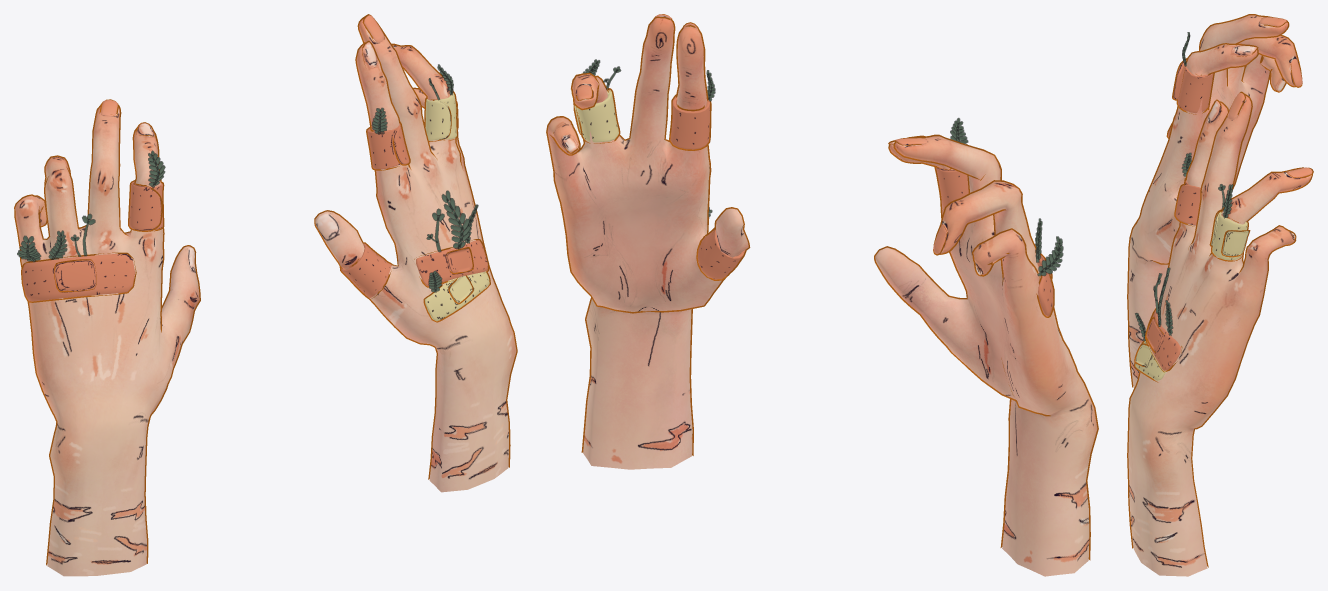
Rendered from hands.glb.
The picture shows the model from 3 angles, left to right: view 1: azimuth 30°, elevation 25°; view 2: azimuth 150°, elevation 25°; view 3: azimuth 270°, elevation 25°; orthographic projection. The views are drawn at different scales.
Visible parts, largest first — view 1: Object_4, Object_5, Object_6, Object_2, Object_3; view 2: Object_4, Object_6, Object_5, Object_2, Object_3; view 3: Object_4, Object_6, Object_5, Object_2, Object_3.
Part boxes in pixels (x1,y1,x2,y2): Object_4: (15, 15, 516, 576); Object_5: (22, 93, 489, 321); Object_6: (14, 14, 517, 565); Object_2: (17, 64, 478, 292); Object_3: (17, 65, 477, 291); Object_4: (547, 14, 1097, 576); Object_6: (546, 14, 1098, 560); Object_5: (574, 90, 1053, 316); Object_2: (583, 59, 1063, 276); Object_3: (583, 60, 1062, 275); Object_4: (1128, 15, 1312, 576); Object_6: (1127, 14, 1313, 567); Object_5: (1135, 60, 1248, 380); Object_2: (1135, 32, 1233, 341); Object_3: (1135, 32, 1232, 340).
Bounding box in the file's own units: 0.9811 × 0.9038 × 0.3503.
Materials: 5 (2 with a texture image).
